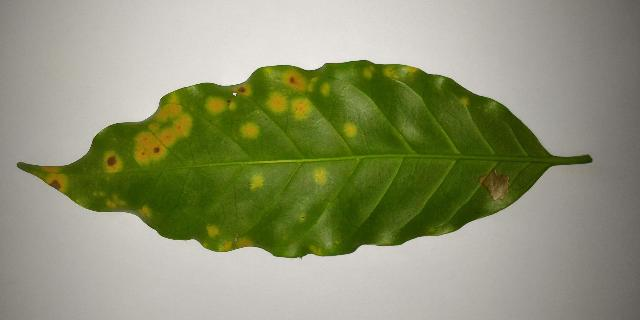cercospora: (133, 91, 192, 165), (262, 66, 318, 121), (479, 170, 508, 201), (42, 166, 68, 193), (205, 97, 236, 116), (217, 238, 253, 251), (104, 152, 121, 172), (342, 121, 358, 141), (251, 172, 265, 189), (232, 84, 251, 96), (207, 225, 221, 238), (107, 198, 125, 208), (242, 124, 257, 136), (321, 82, 331, 96), (384, 67, 398, 77), (315, 170, 326, 182), (138, 207, 151, 216), (364, 68, 373, 76), (406, 66, 417, 72), (463, 100, 466, 103), (204, 246, 205, 246)
